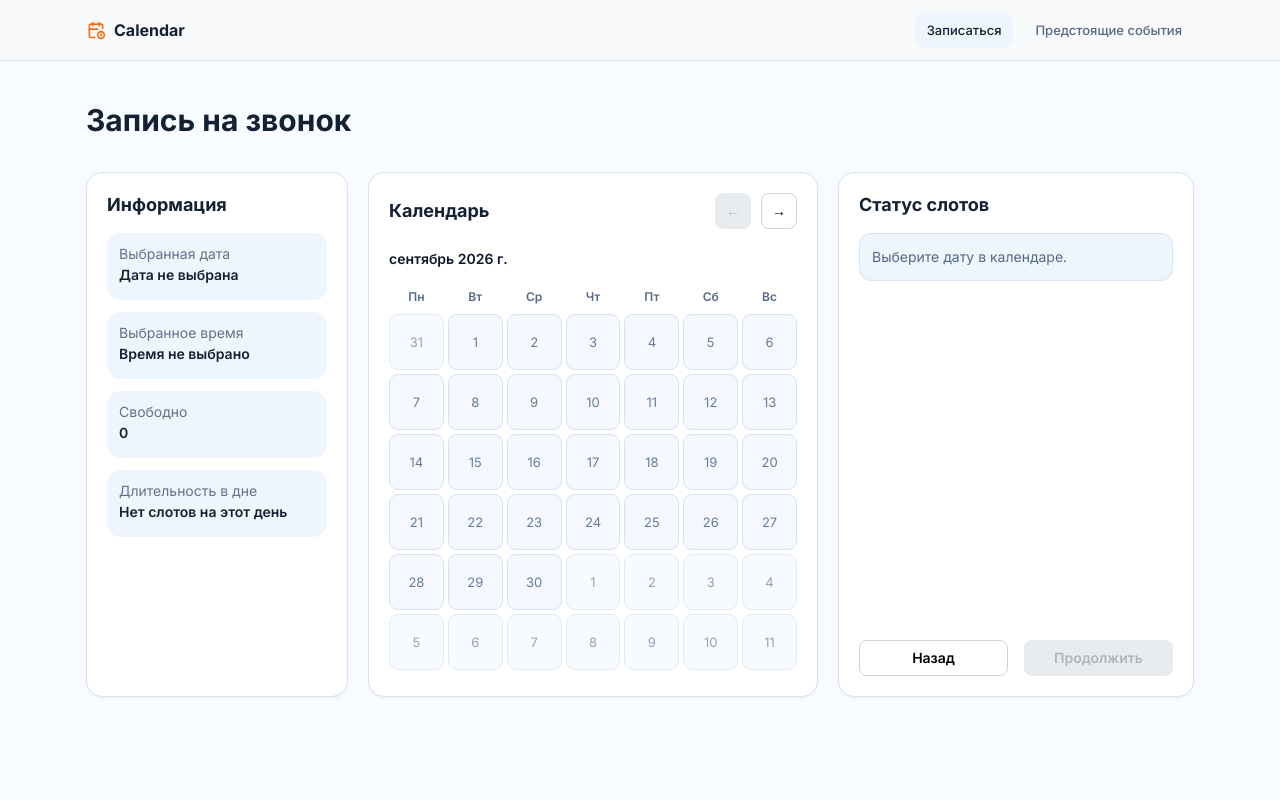
it: calendar pages › shows the new booking month after a conflict refresh crosses a month boundary
Click the button named "Следующий месяц". click: (779, 211)
box: [761,193,797,229]
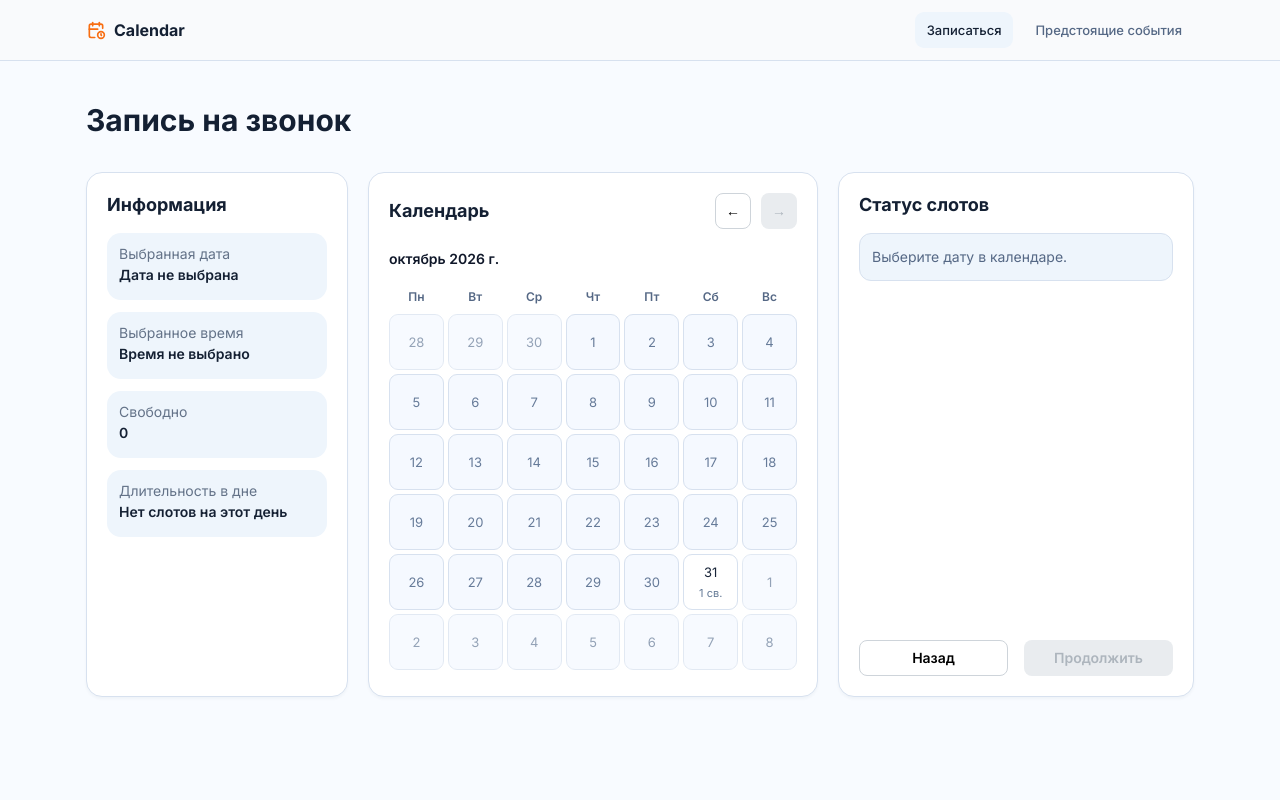
Click the button with aria-label "31 октября". click: (711, 582)
box: [683,554,738,610]
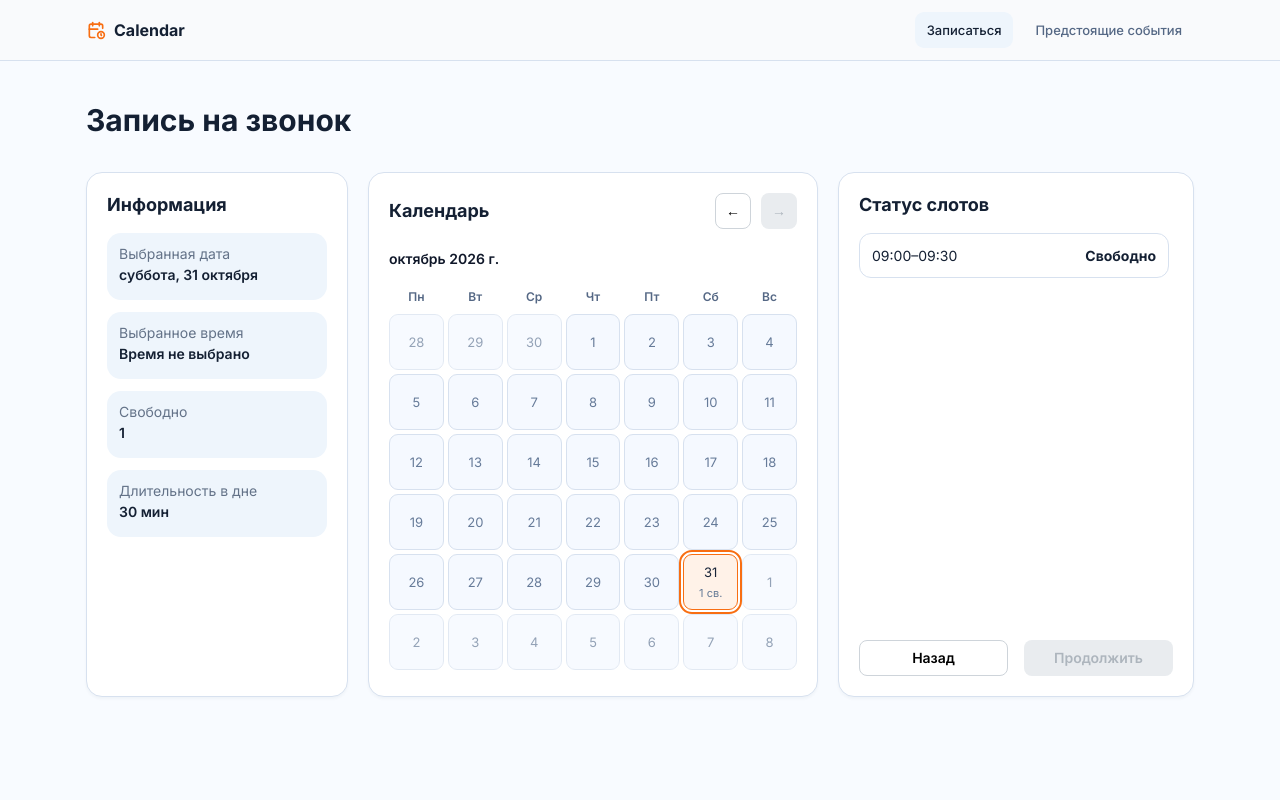
Click the button "09:00–09:30 Свободно". click: (892, 256)
box: [859,233,1169,278]
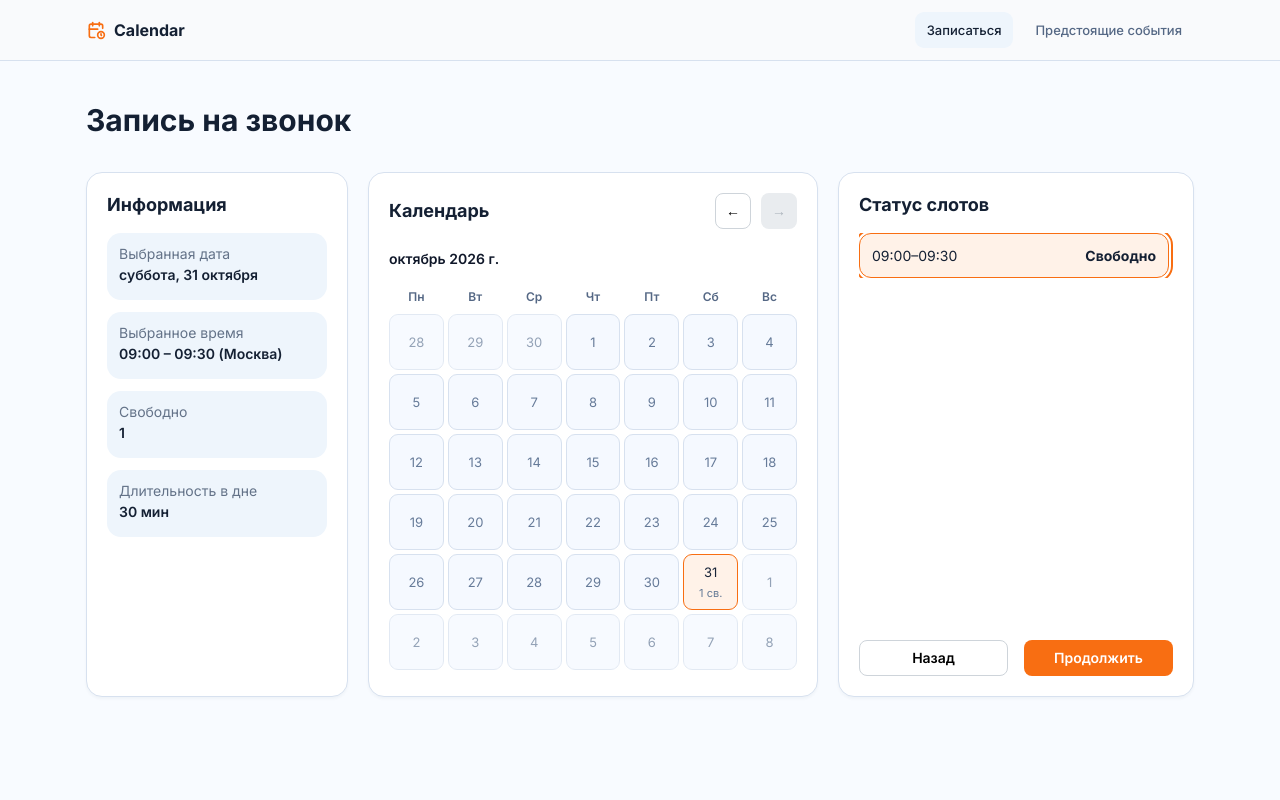
Click the button "Продолжить". click: (1098, 658)
box: [1024,640,1173,676]
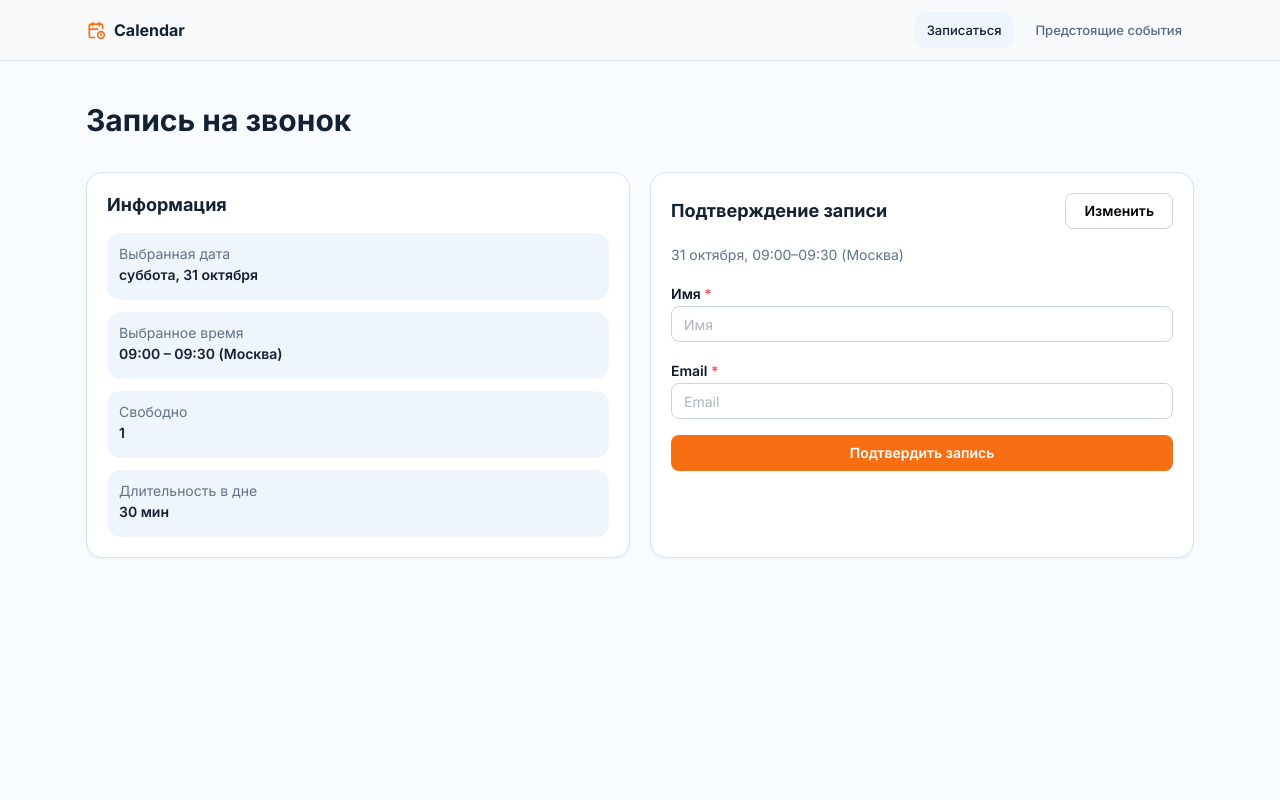
Type "Guest" into the field labelled "Имя". click: (922, 324)
box: [671,306,1173,342]
Type "guest@example.com" into the field labelled "Email". click: (922, 401)
box: [671,383,1173,419]
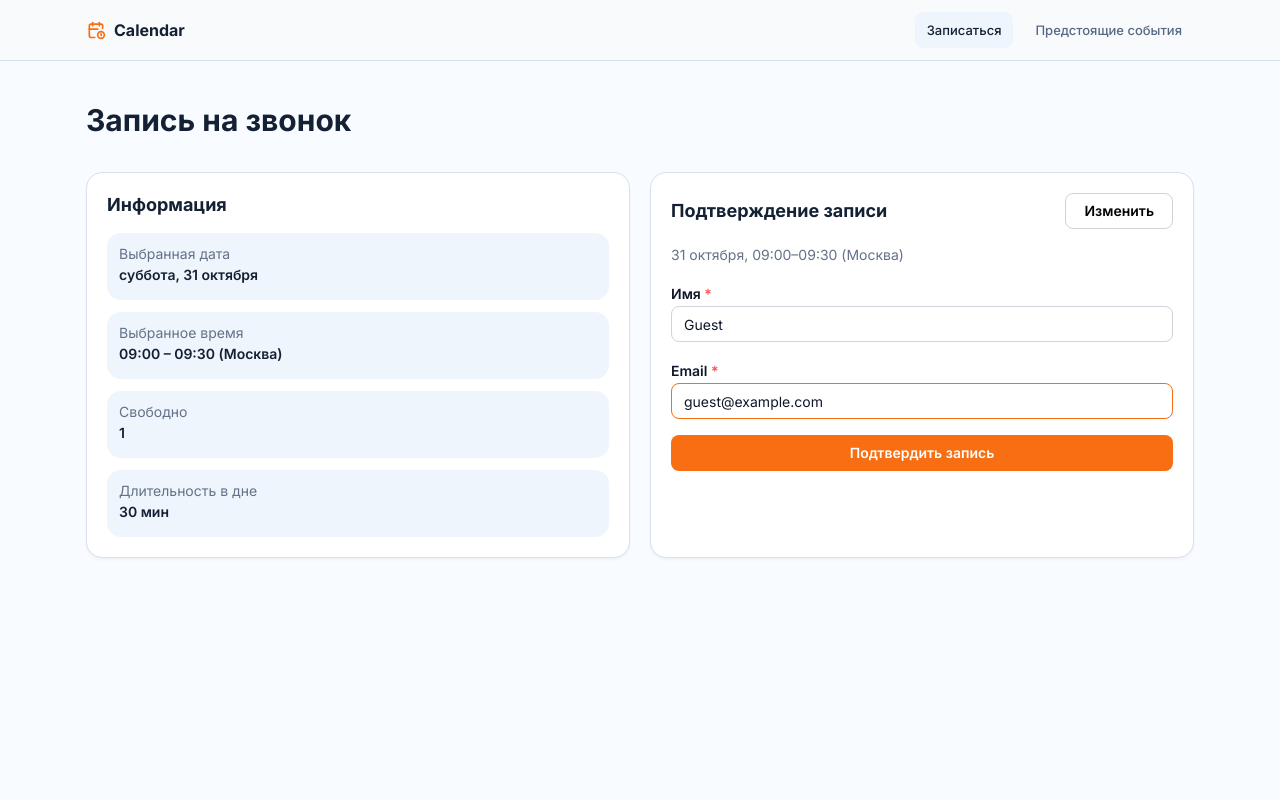
Click the button "Подтвердить запись". click: (922, 453)
box: [671,435,1173,471]
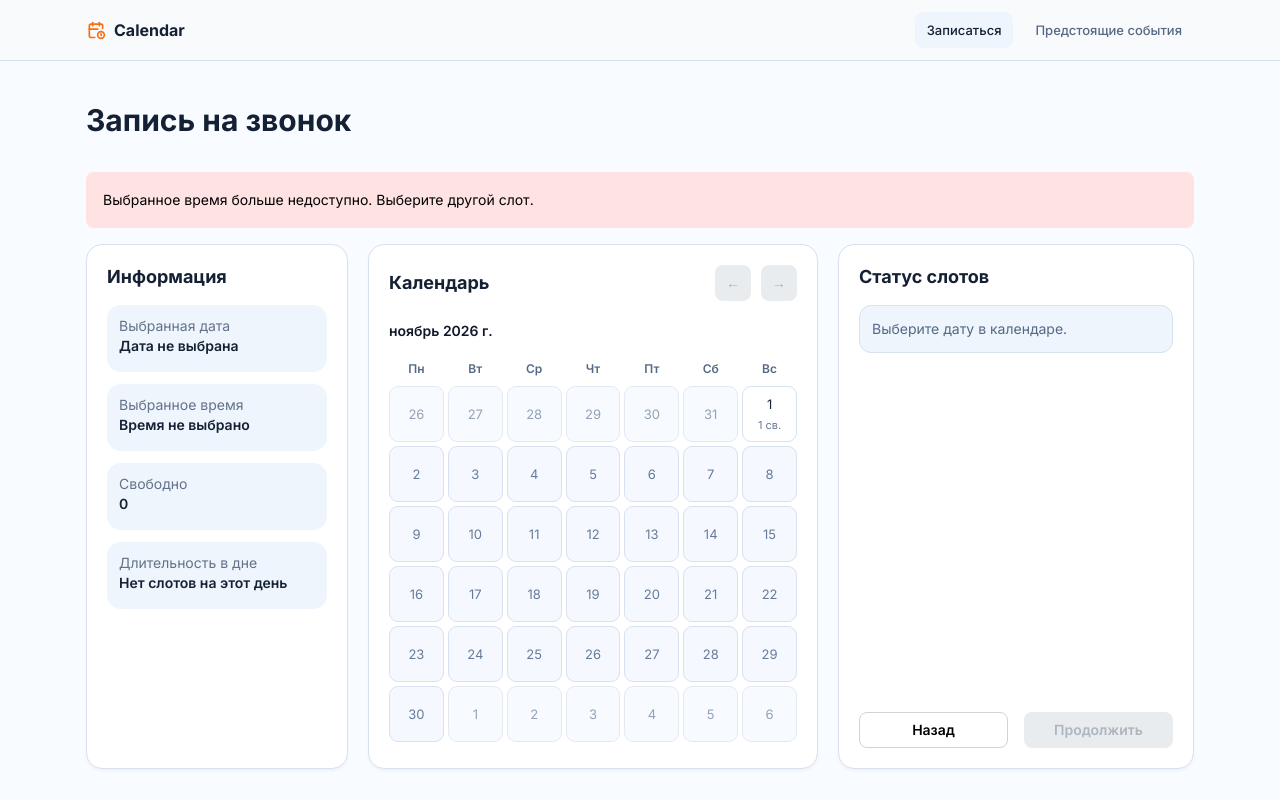
Check: the button with aria-label "1 ноября —" is enabled, box [742,386,797,442]
Check: the text "ноябрь 2026 г." is shown, box [389,322,493,339]
